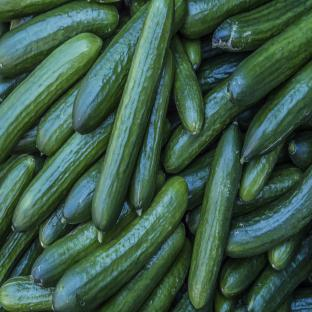Cucumber: (53, 177, 187, 311), (0, 33, 101, 163), (13, 114, 114, 231), (188, 123, 242, 308), (73, 3, 149, 133), (0, 0, 118, 76), (32, 202, 137, 286), (227, 11, 311, 105), (164, 79, 248, 173), (96, 223, 185, 311), (226, 167, 311, 257), (128, 51, 174, 215), (242, 62, 311, 161), (213, 0, 311, 51), (247, 236, 311, 311), (139, 238, 191, 311), (234, 165, 302, 217), (36, 80, 81, 156), (171, 35, 204, 134), (0, 156, 35, 244), (63, 156, 104, 224), (238, 143, 283, 201), (219, 252, 268, 298), (179, 150, 215, 209), (0, 229, 37, 285), (197, 54, 247, 95), (268, 225, 310, 270), (0, 277, 53, 311), (39, 204, 74, 248), (0, 0, 71, 21), (8, 238, 42, 279), (102, 10, 131, 52), (235, 99, 265, 131), (0, 73, 29, 104), (289, 132, 311, 169), (10, 125, 38, 154), (174, 292, 212, 311), (181, 37, 201, 70), (201, 34, 225, 61), (185, 199, 202, 235), (0, 155, 25, 179), (214, 287, 236, 311), (290, 288, 311, 311), (167, 97, 180, 131), (10, 15, 35, 30), (276, 292, 293, 311), (277, 141, 291, 164), (31, 153, 45, 175), (154, 170, 165, 196), (237, 287, 250, 306), (162, 118, 170, 148), (297, 115, 311, 130), (0, 23, 9, 38), (233, 306, 248, 311), (44, 157, 51, 166)
